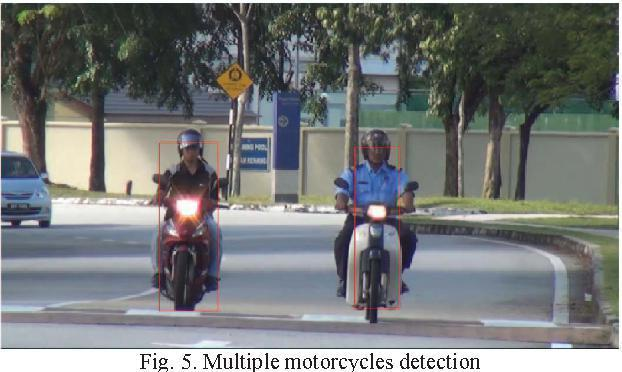motorcycle: (313, 170, 429, 328), (136, 166, 240, 319)
